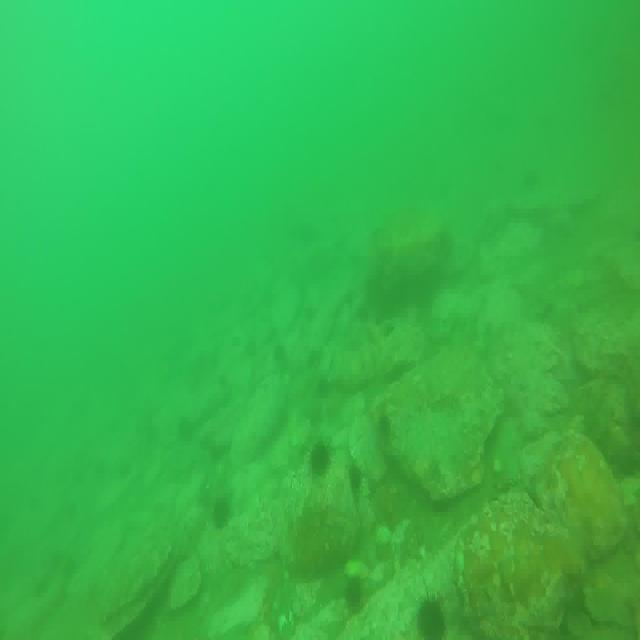echinus: (417, 593, 447, 640), (343, 574, 364, 612), (309, 440, 329, 478), (211, 494, 231, 530), (374, 412, 393, 448), (346, 460, 364, 494)
